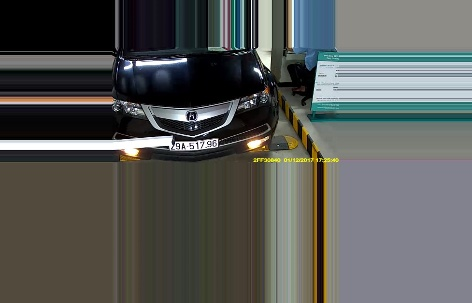plate: (170, 137, 220, 152)
